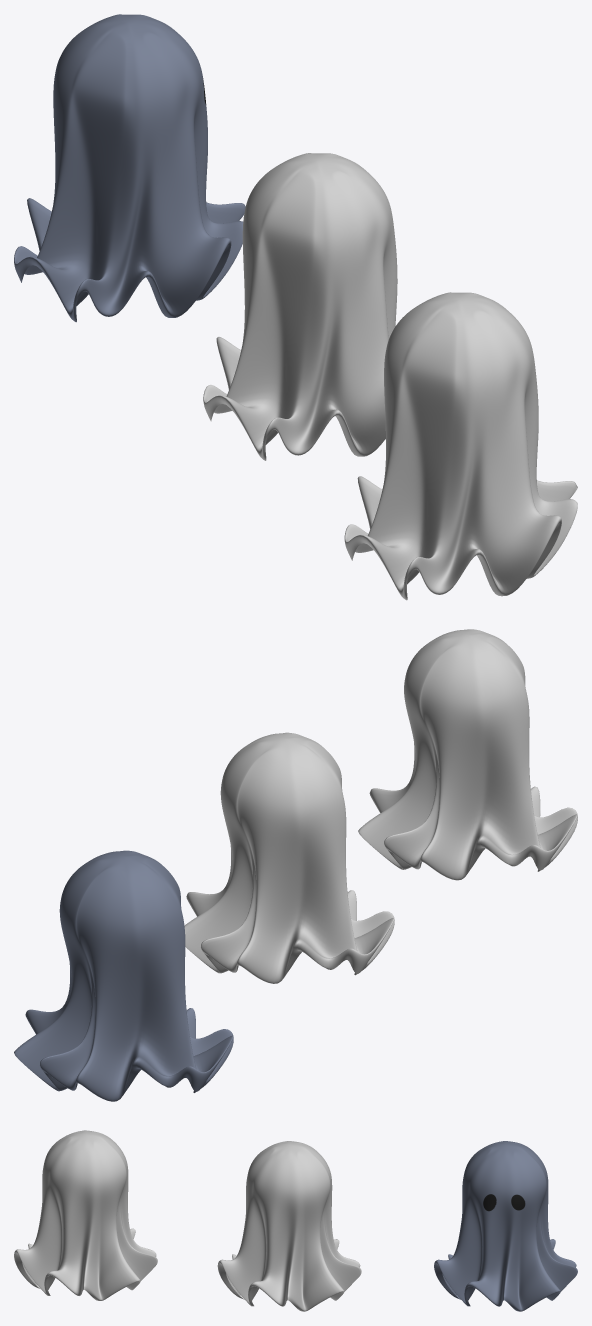
The model's file is Ghosts.fbx.
3 renders of one model, top to bottom at view 1: azimuth 30°, elevation 25°; view 2: azimuth 150°, elevation 25°; view 3: azimuth 270°, elevation 25°, orthographic. The views are drawn at different scales.
Visible parts, largest first — view 1: pSphere4, pSphere2, pSphere1; view 2: pSphere4, pSphere2, pSphere1; view 3: pSphere2, pSphere4, pSphere1.
Part boxes in pixels (<box>): pSphere4: <box>344,292,577,600</box>; pSphere2: <box>14,14,245,322</box>; pSphere1: <box>203,153,397,460</box>; pSphere4: <box>358,629,577,880</box>; pSphere2: <box>14,850,233,1101</box>; pSphere1: <box>184,732,394,983</box>; pSphere2: <box>434,1141,577,1311</box>; pSphere4: <box>14,1130,157,1300</box>; pSphere1: <box>217,1141,361,1311</box>.
Size of the model in its own units: 6.18 by 6 by 19.72.
